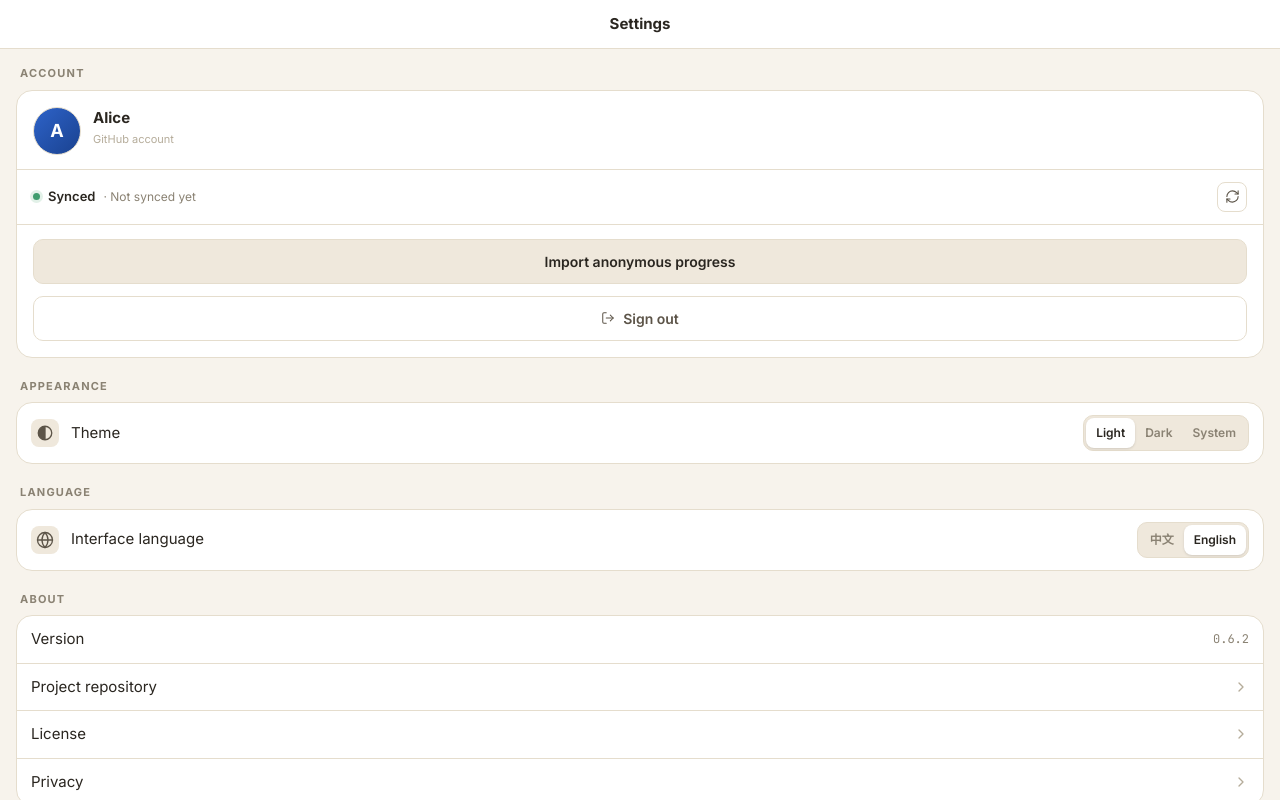
Test: SettingsPage account UI › shows and runs manual anonymous progress import when valid anonymous progress exists
This screenshot has width=1280, height=800.
Click the button "Import anonymous progress" at (640, 261), box left=33, top=238, right=1247, bottom=284
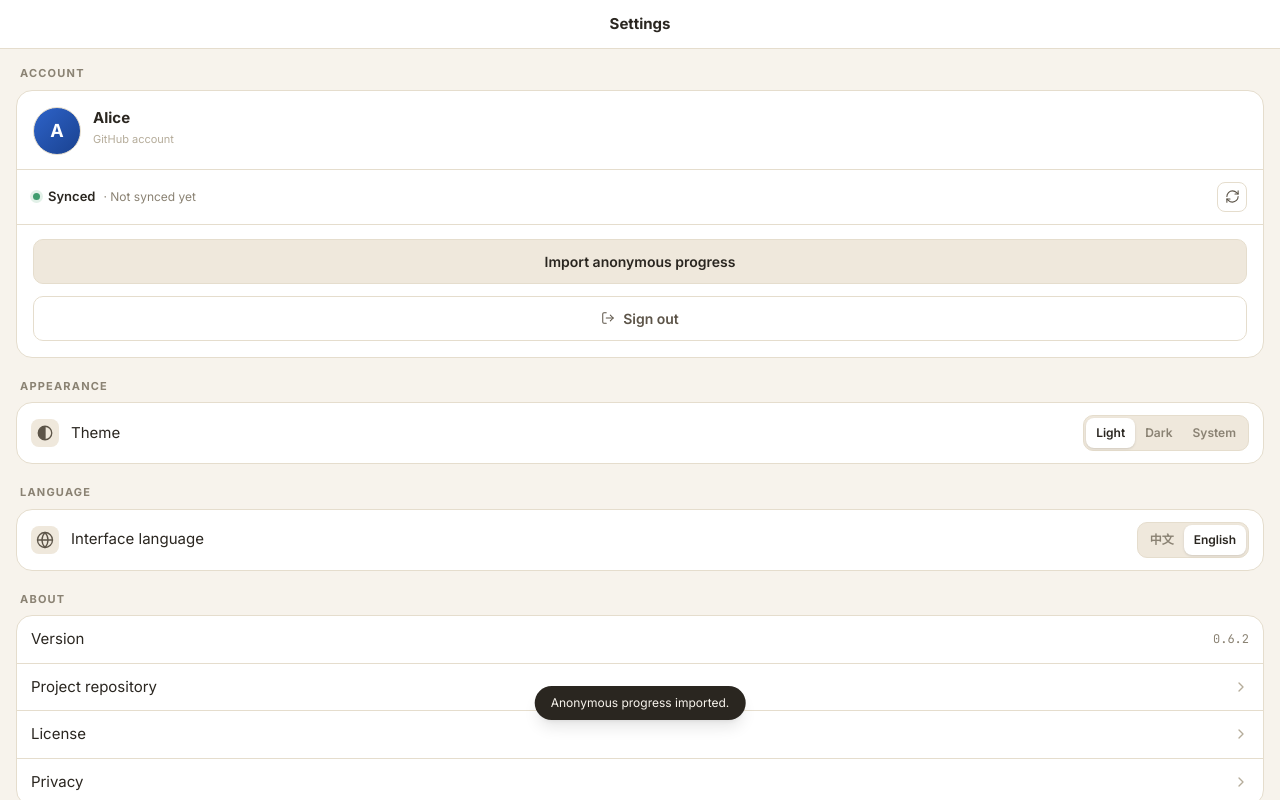
Result: the message reads "Anonymous progress imported." at left=551, top=695, right=729, bottom=710
